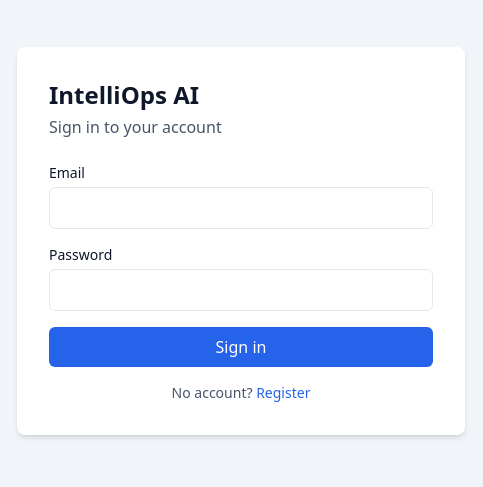
LoginPage › shows an error when login fails
This screenshot has width=483, height=487.
Type "ada@example.com" into the field labelled "Email" at (241, 208), box [49,187,433,229]
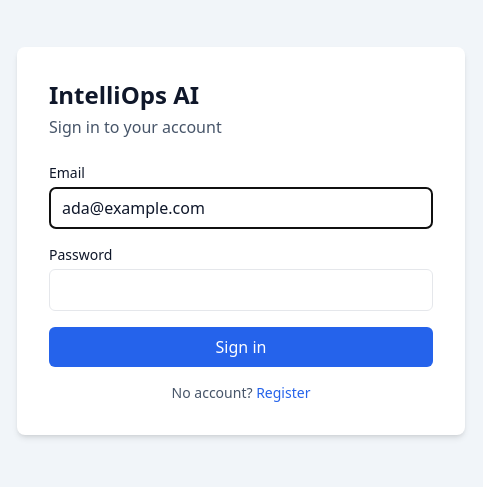
Type "whatever1" into the password field labelled "Password" at (241, 290), box [49,269,433,311]
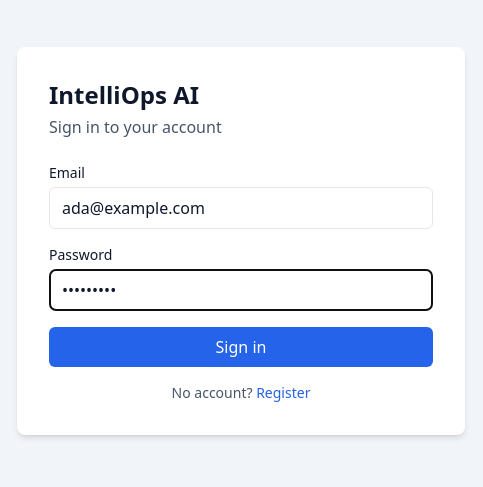
Click the button "Sign in" at (241, 347), box [49,327,433,367]
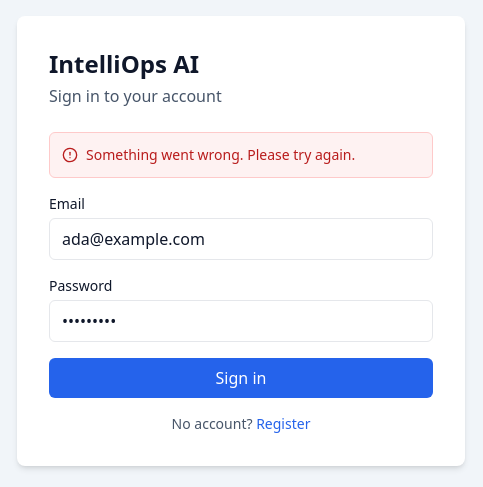
Check: the message "Something went wrong. Please try again." is shown, box [49,132,433,178]
